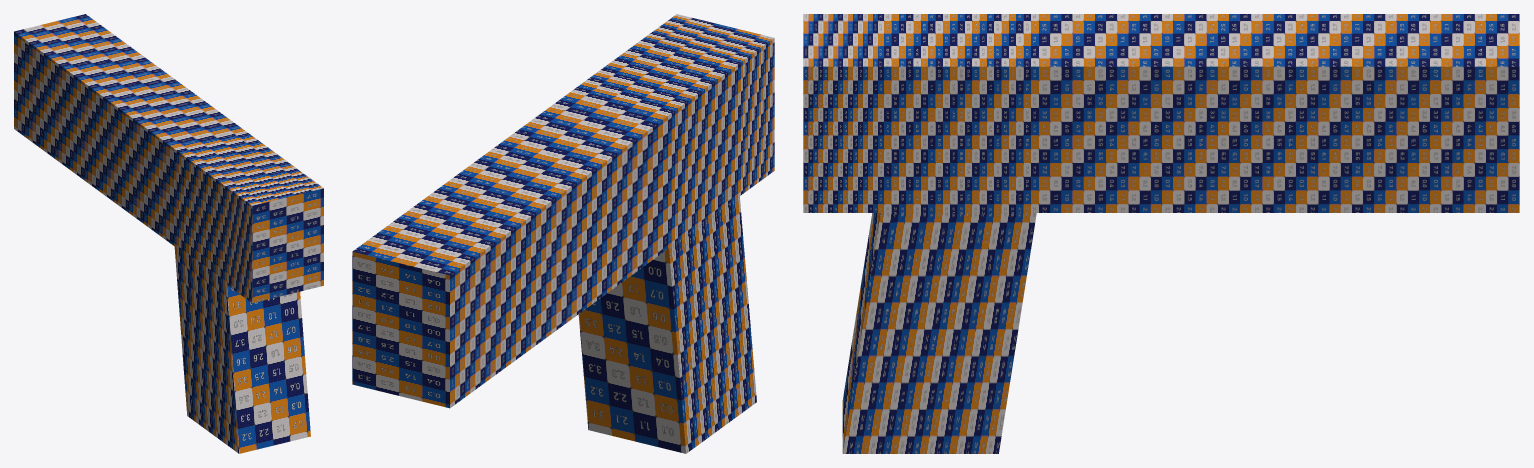
Rendered from weapon.obj.
3 views of the same model, side by side, from view 1: azimuth 30°, elevation 25°; view 2: azimuth 150°, elevation 25°; view 3: azimuth 270°, elevation 25° (orthographic). The views are drawn at different scales.
Parts seen in each view (by area): view 1: Cube; view 2: Cube; view 3: Cube.
Part boxes in pixels (<box>): Cube: <box>14,14,323,453</box>; Cube: <box>352,14,774,453</box>; Cube: <box>803,14,1519,453</box>.
Size of the model in its own units: 0.0205 by 0.0704 by 0.1179.
